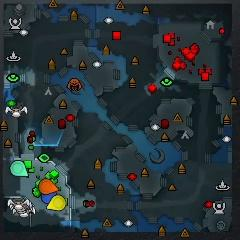p1: (41, 190, 57, 204)
p2: (10, 160, 29, 177)
p4: (47, 195, 66, 211)
p5: (39, 179, 59, 194)
